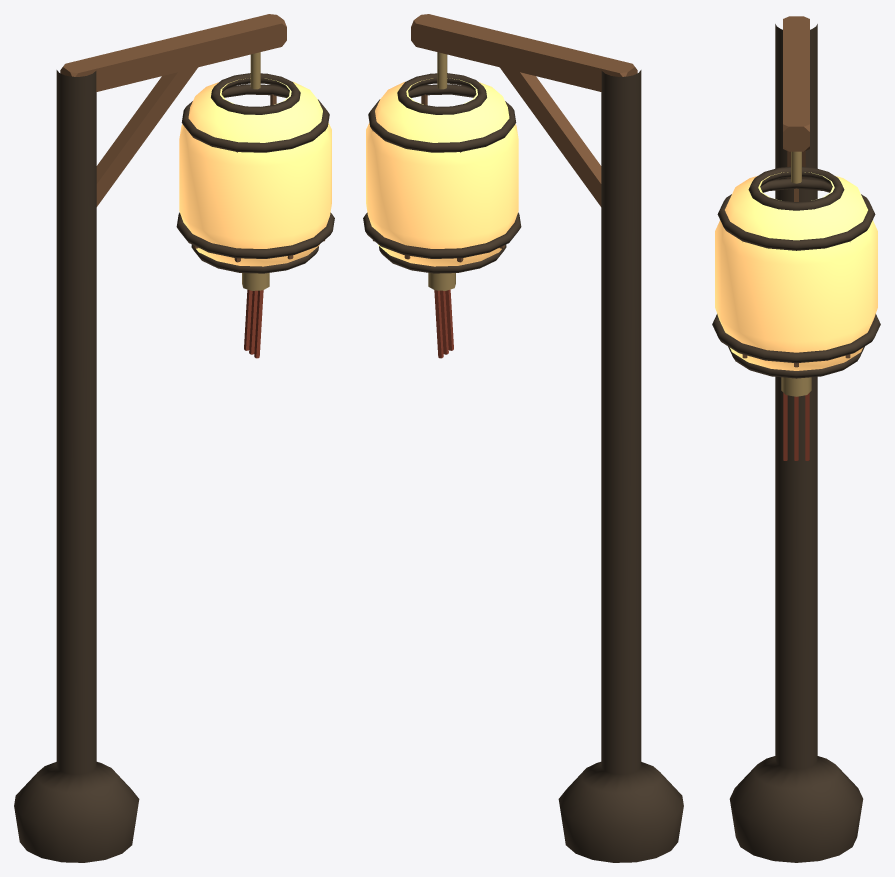
Rendered from night_lantern.glb.
3 views of the same model, side by side, from view 1: azimuth 30°, elevation 25°; view 2: azimuth 150°, elevation 25°; view 3: azimuth 270°, elevation 25° (orthographic). The views are drawn at different scales.
Parts seen in each view (by area): view 1: LanternPost, LanternSwing; view 2: LanternPost, LanternSwing; view 3: LanternPost, LanternSwing.
Part boxes in pixels (<box>): LanternPost: <box>14,14,286,862</box>; LanternSwing: <box>176,52,334,358</box>; LanternPost: <box>411,14,683,862</box>; LanternSwing: <box>363,52,521,358</box>; LanternPost: <box>729,16,863,862</box>; LanternSwing: <box>712,151,880,460</box>.
Bounding box in the file's own units: 0.609 × 1.48 × 0.278.
